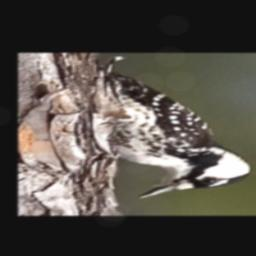Woodpecker: (89, 72, 256, 199)
